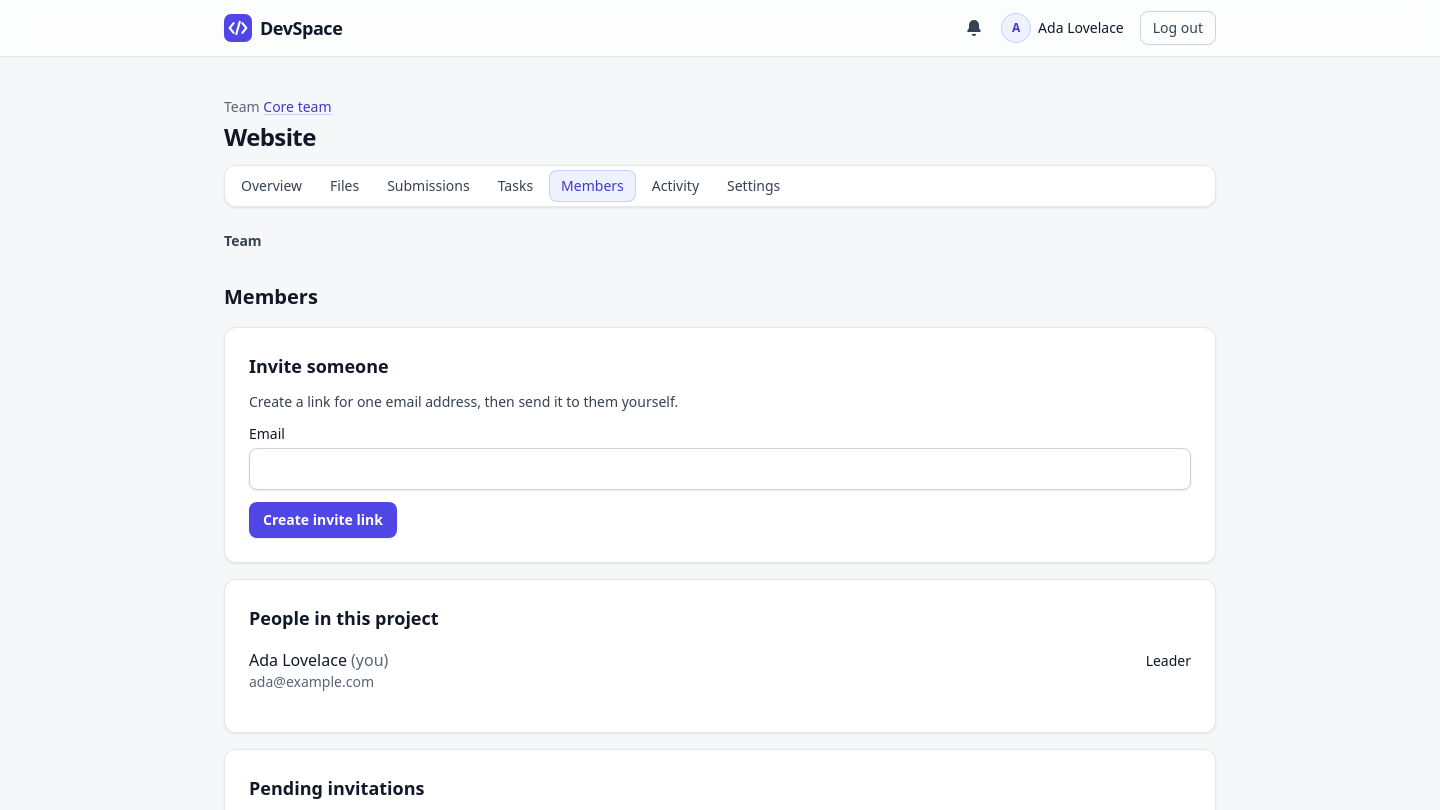
Test: members page › shows the API’s message when too many invitations were made (429)
This screenshot has width=1440, height=810.
Type "new@example.com" into the field labelled "Email" at (720, 469), box top-left (249, 448), bottom-right (1191, 490)
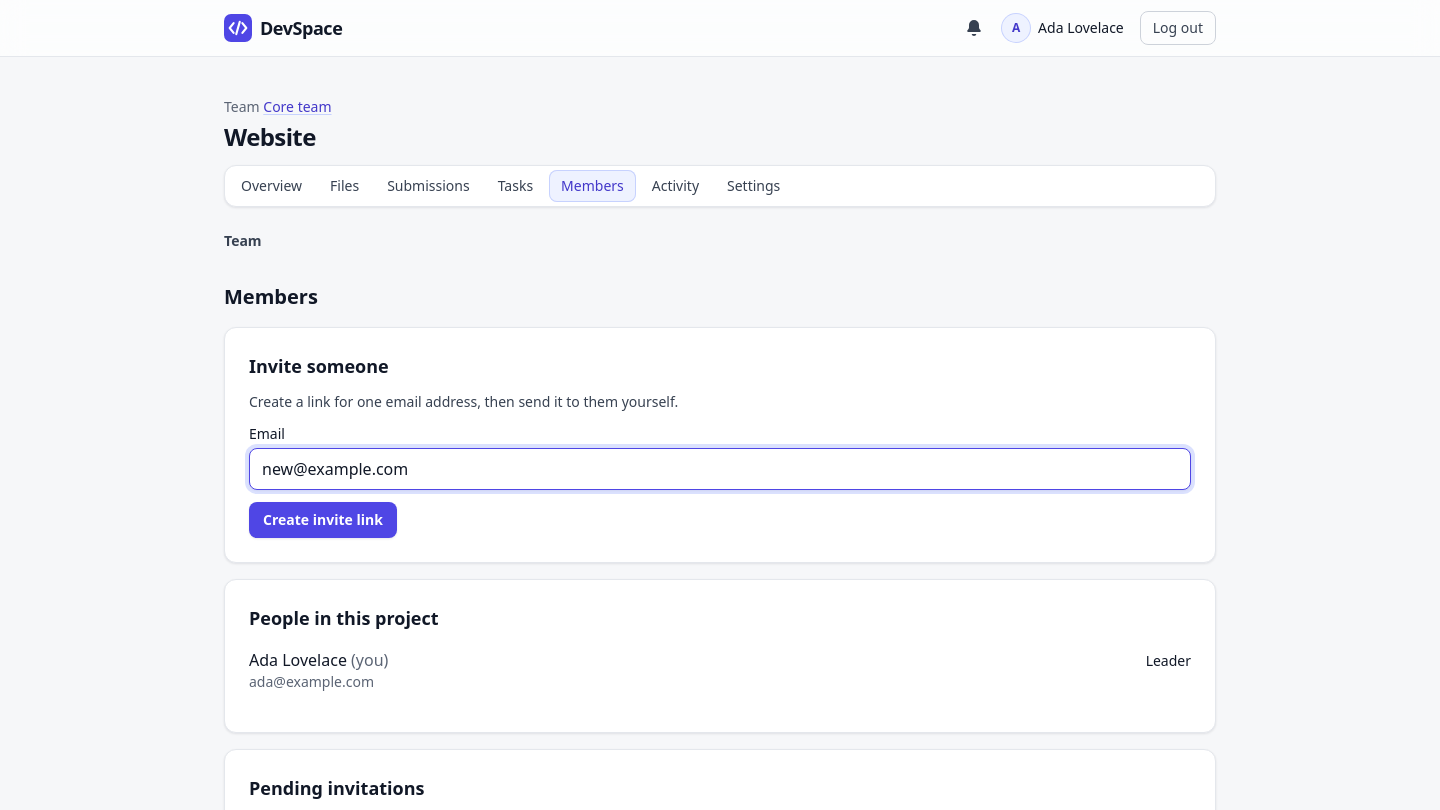
Click the button "Create invite link" at (323, 520), box top-left (249, 502), bottom-right (397, 538)
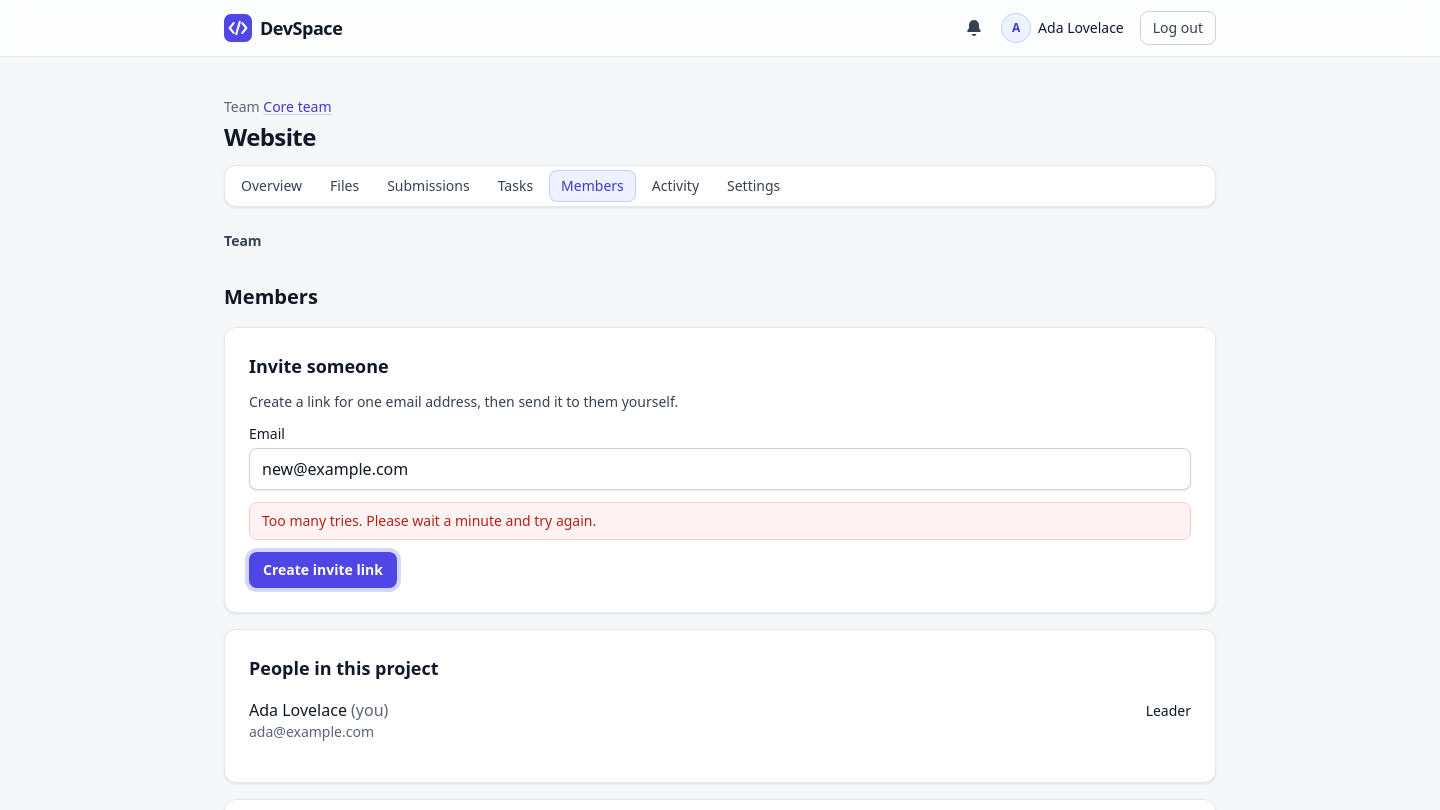
Expected: the message reads "Too many tries. Please wait a minute and try again.", top-left (262, 511), bottom-right (596, 530)
